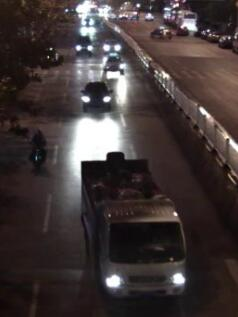bus: (175, 10, 199, 36)
car: (76, 150, 191, 304), (78, 78, 115, 113), (100, 51, 129, 72), (73, 32, 95, 56), (148, 22, 173, 42), (100, 35, 123, 54), (80, 15, 96, 29)
